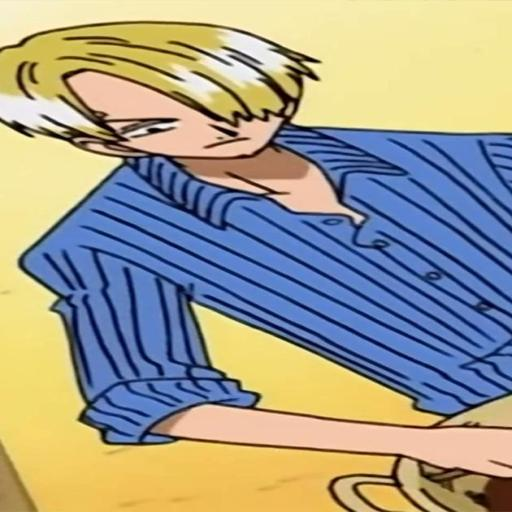sanji: (5, 30, 512, 491)
